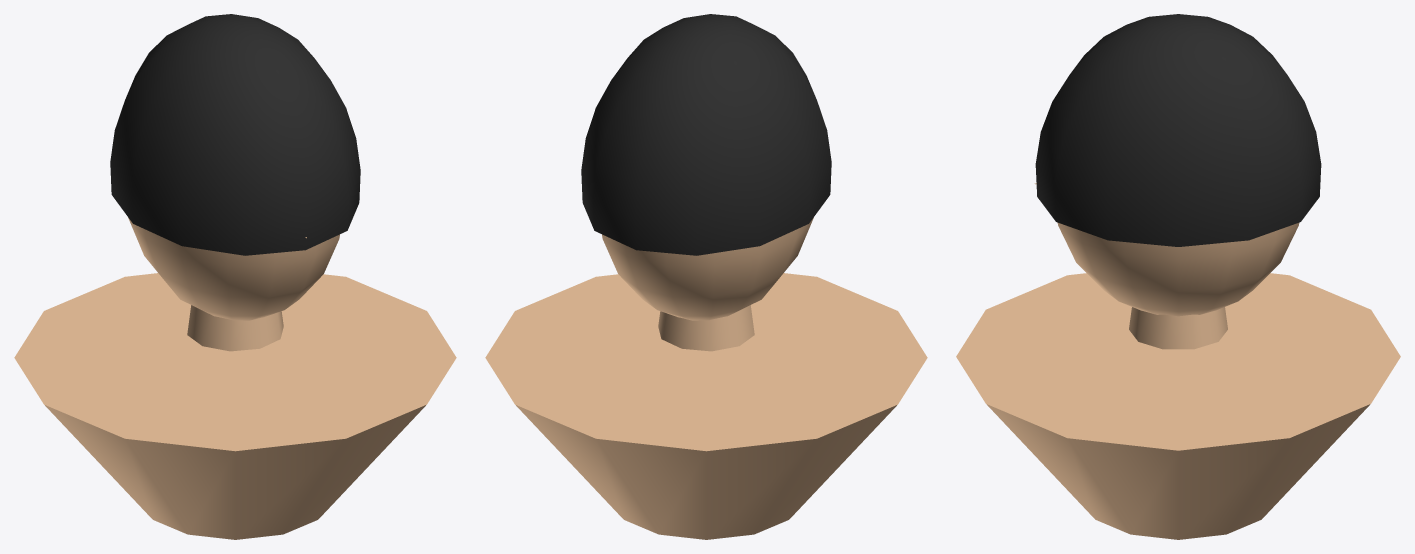
File: raw_001.glb
3 renders of one model, left to right at view 1: azimuth 30°, elevation 25°; view 2: azimuth 150°, elevation 25°; view 3: azimuth 270°, elevation 25°, orthographic.
Size of the model in its own units: 1.88 by 2.23 by 1.88.
